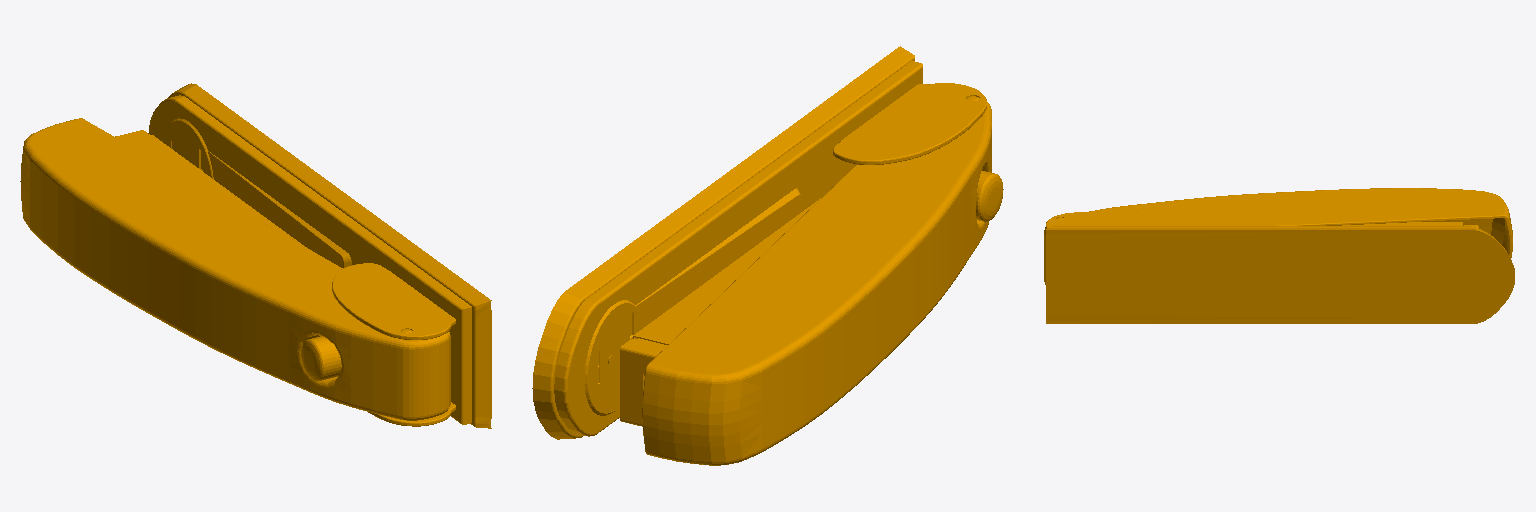
The robot description file, URDF, robot "stapler":
<?xml version="1.0"?>
<robot name="stapler">
  <link name="stapler">
    <visual>
      <origin xyz="0.0 0.0 0.0" rpy="0.0 0.0 1.5708"/>
      <geometry>
        <mesh filename="stapler1.obj" scale="0.015 0.015 0.015"/>
      </geometry>
    </visual>
    <collision>
      <origin xyz="0.0 0.0 0.0" rpy="0.0 0.0 1.5708"/>
      <geometry>
        <mesh filename="stapler1.obj" scale="0.015 0.015 0.015"/>
      </geometry>
    </collision>
    <inertial>
      <mass value="0.2"/>
      <inertia ixx="0.0001" ixy="0.0" ixz="0.0" iyy="0.0001" iyz="0.0" izz="0.0001"/>
    </inertial>
  </link>
</robot>

--- What the picture shows (computed from the rendered views, not written in the file) ---
The picture shows the robot from 3 angles, left to right: view 1: azimuth 30°, elevation 25°; view 2: azimuth 150°, elevation 25°; view 3: azimuth 270°, elevation 25°; orthographic projection.
Robot: stapler — 1 links, 0 joints (none); root link stapler; default pose: all joints at 0.
Visible links, largest first — view 1: stapler; view 2: stapler; view 3: stapler.
Boxes of the visible links, x1,y1,x2,y2 form: stapler: (20,83,491,428); stapler: (532,46,1003,465); stapler: (1044,188,1514,323).
Size in the robot's own frame: 0.0484 by 0.1541 by 0.0338 metres.
Meshes: 1 distinct files referenced, 1 mesh visuals loaded (1 OBJ).